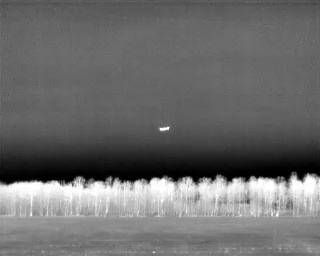DRONE: (155, 121, 175, 137)
